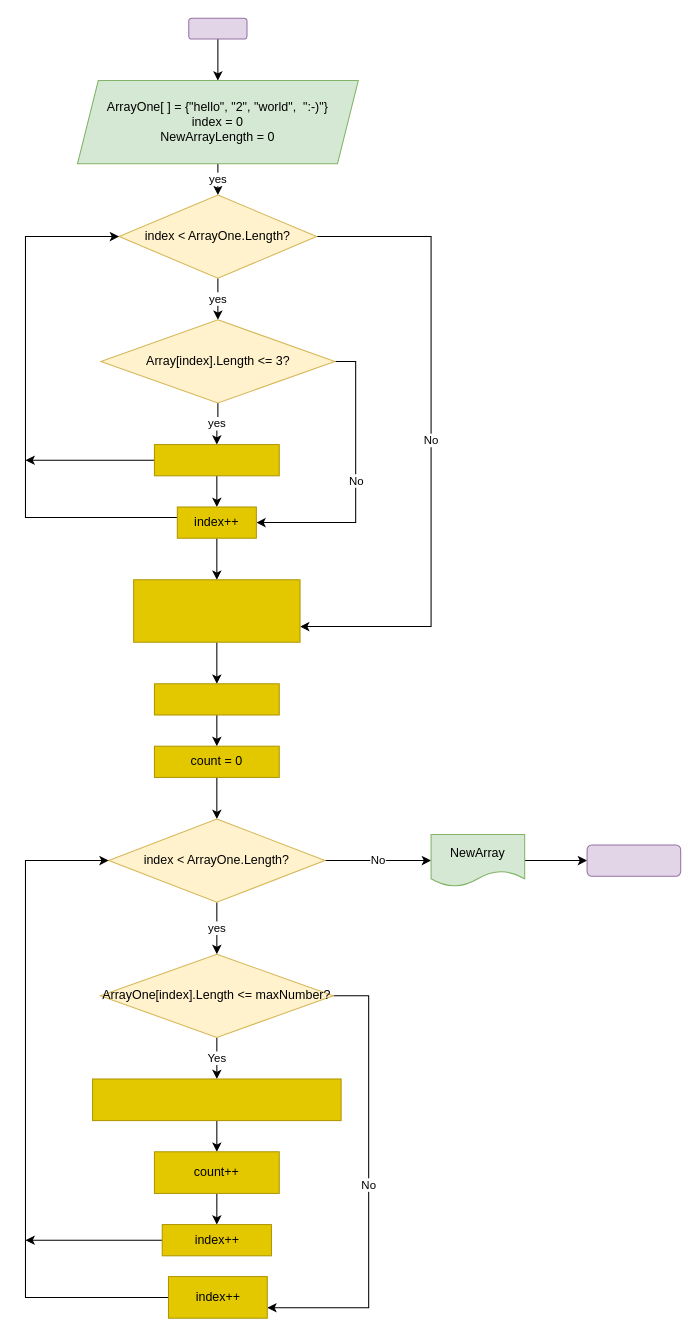
Image size: 699x1336. Some labels were removed from this diagram. Each missing label, with the box of its shape:
end: (586, 844, 681, 876)
index = 0: (153, 683, 279, 715)
NewArray[count] = ArrayOne[index]: (92, 1078, 341, 1121)
NewArray[NewArrayLength]: (133, 579, 300, 642)
NewArrayLength++: (153, 444, 279, 476)
start: (188, 17, 247, 39)
